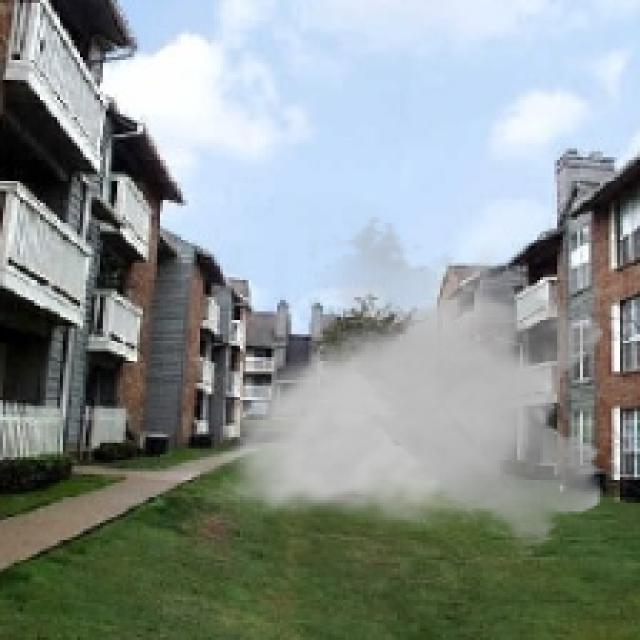Smoke: (206, 214, 614, 557)
